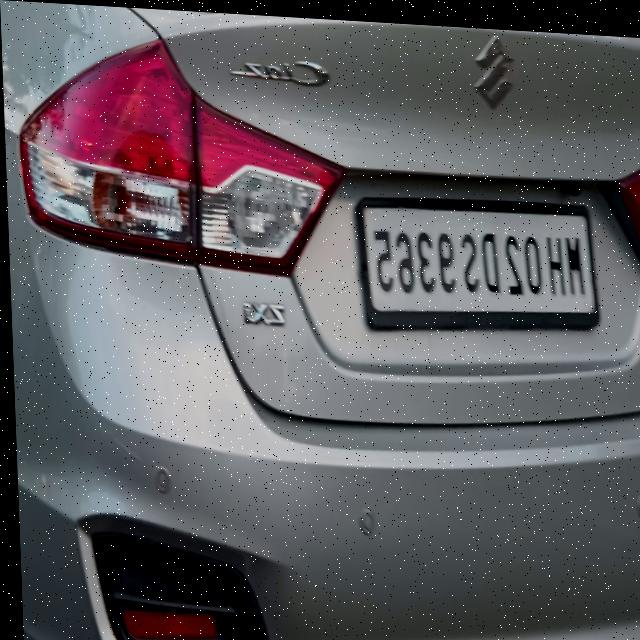plate: (357, 186, 598, 334)
